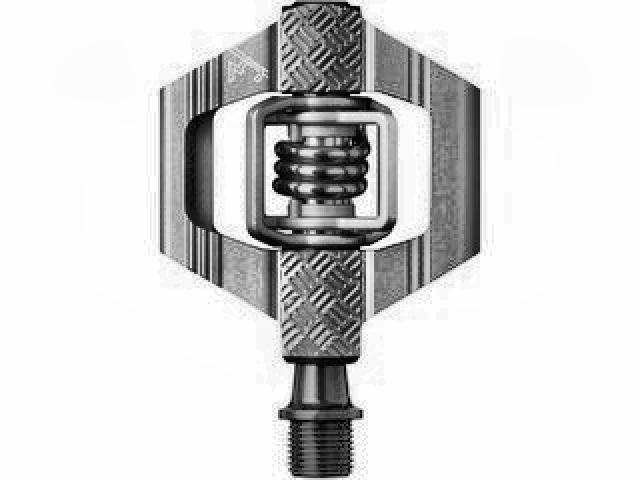pedal: (155, 1, 485, 479)
